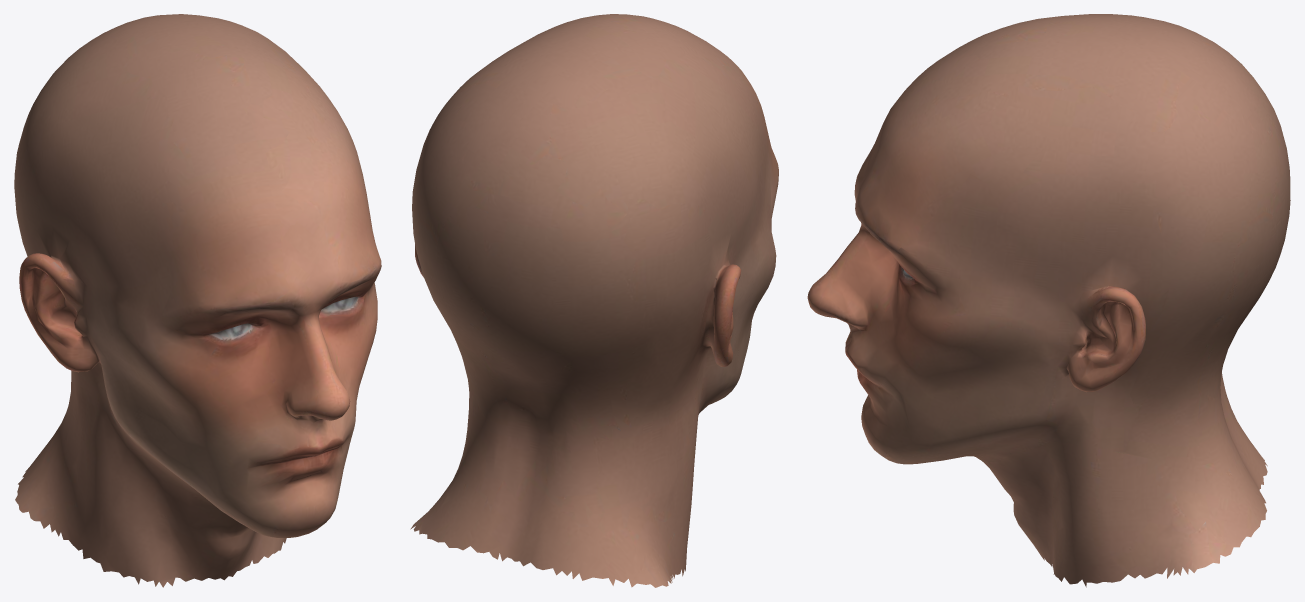
The model's file is head_m3.glb.
3 renders of one model, left to right at view 1: azimuth 30°, elevation 25°; view 2: azimuth 150°, elevation 25°; view 3: azimuth 270°, elevation 25°, orthographic.
Parts seen in each view (by area): view 1: Head; view 2: Head; view 3: Head.
Boxes of the visible parts, left/top/right/bottom form: Head: left=14, top=14, right=381, bottom=587; Head: left=410, top=14, right=778, bottom=587; Head: left=807, top=14, right=1290, bottom=587.
Bounding box in the file's own units: 0.8327 × 1.33 × 1.11.
1 material, 1 textured.
